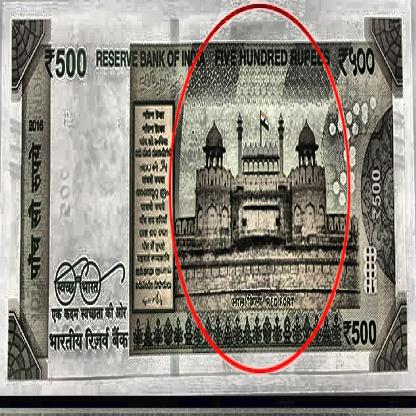Rs500: (41, 43, 90, 80), (342, 311, 382, 355)
